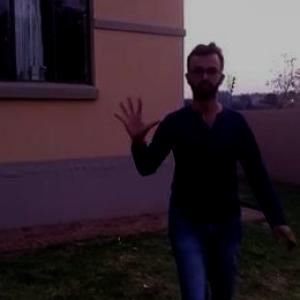follow_hand: (111, 94, 159, 144)
